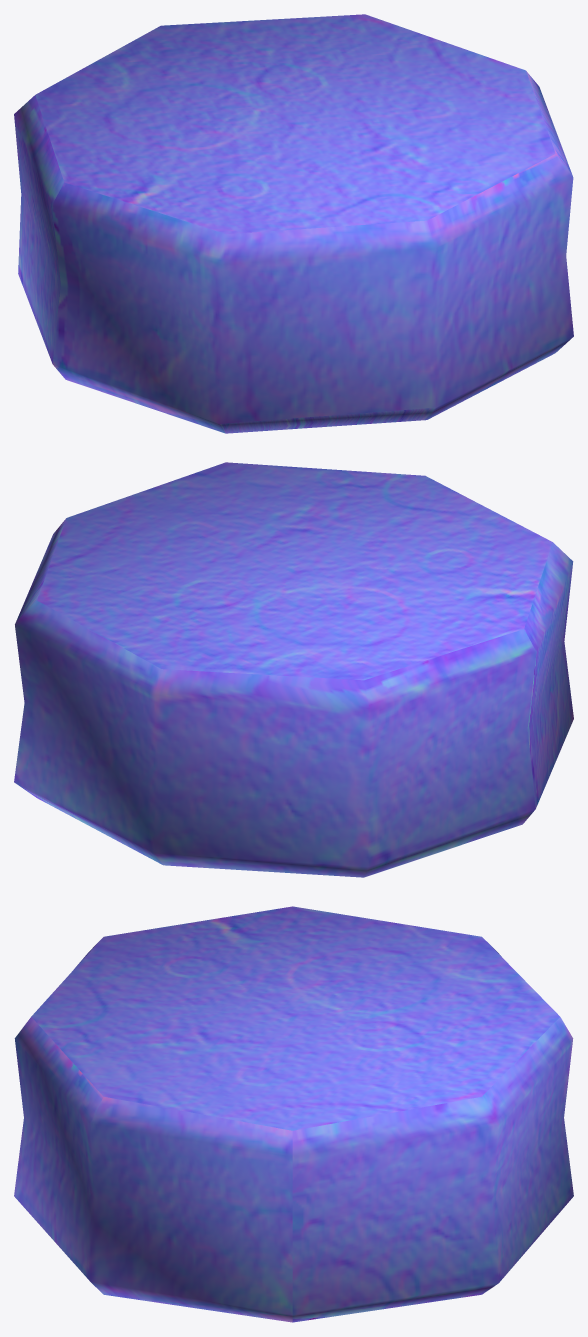
File: pillar_bottom_02a_LOD1.fbx
3 views of the same model, one above another, from view 1: azimuth 30°, elevation 25°; view 2: azimuth 150°, elevation 25°; view 3: azimuth 270°, elevation 25° (orthographic).
Visible parts, largest first — view 1: pillar_bottom_02a_LOD1; view 2: pillar_bottom_02a_LOD1; view 3: pillar_bottom_02a_LOD1.
Boxes of the visible parts, <box> form: pillar_bottom_02a_LOD1: <box>14,14,573,433</box>; pillar_bottom_02a_LOD1: <box>14,462,573,877</box>; pillar_bottom_02a_LOD1: <box>14,906,573,1322</box>.
Bounding box in the file's own units: 41.01 × 41 × 16.
Materials: 1 (1 with a texture image).
